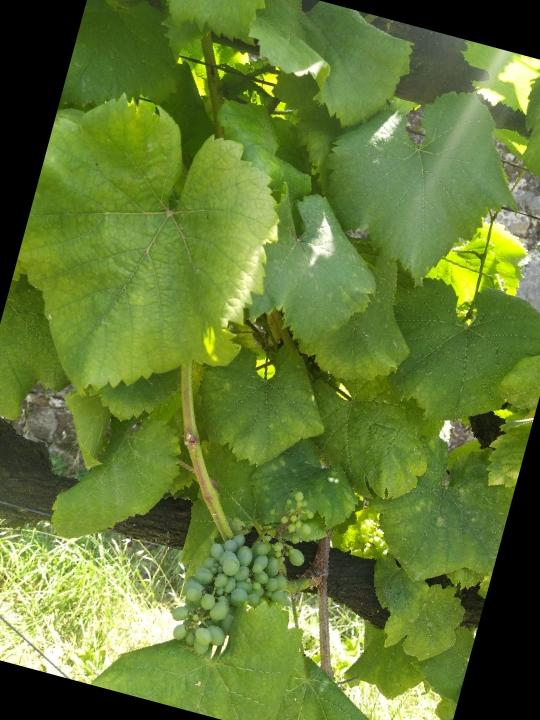grape: (161, 514, 306, 677)
